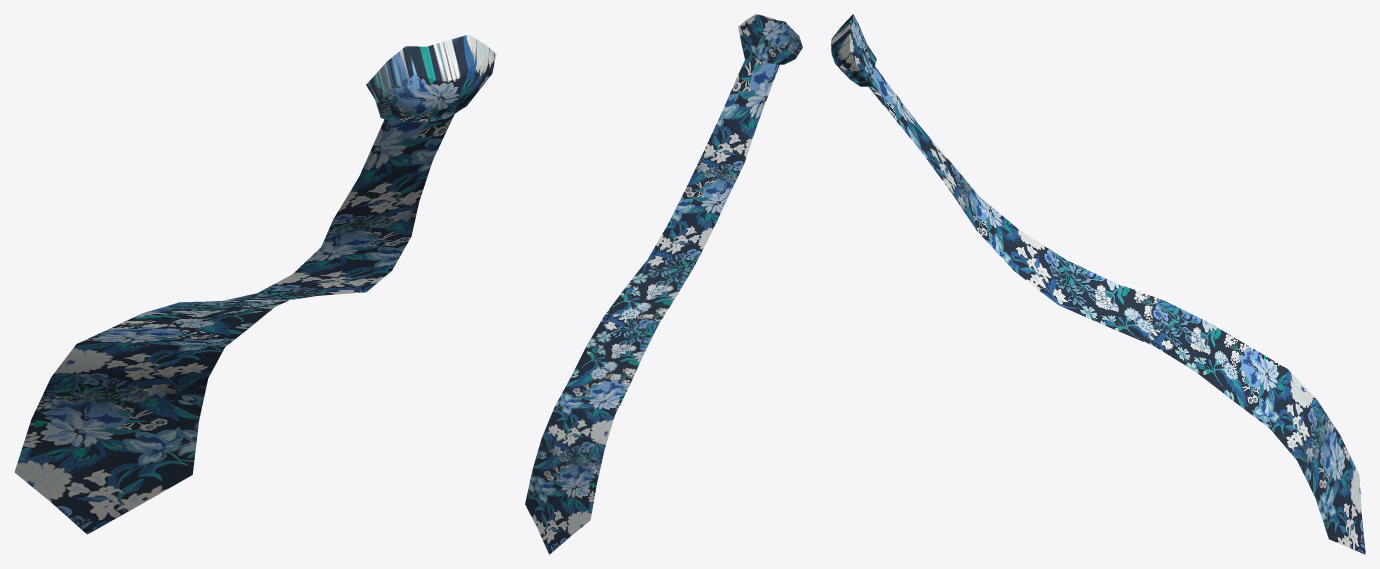
Rendered from Pose-8_Tie-2.fbx.
3 views of the same model, side by side, from view 1: azimuth 30°, elevation 25°; view 2: azimuth 150°, elevation 25°; view 3: azimuth 270°, elevation 25° (orthographic). The views are drawn at different scales.
Parts seen in each view (by area): view 1: Pose-8_Tie-2; view 2: Pose-8_Tie-2; view 3: Pose-8_Tie-2.
Part boxes in pixels (x1=…): Pose-8_Tie-2: x1=14, y1=34, x2=496, y2=534; Pose-8_Tie-2: x1=525, y1=14, x2=802, y2=554; Pose-8_Tie-2: x1=831, y1=14, x2=1365, y2=554.
Size of the model in its own units: 8.22 by 33.11 by 31.06.
